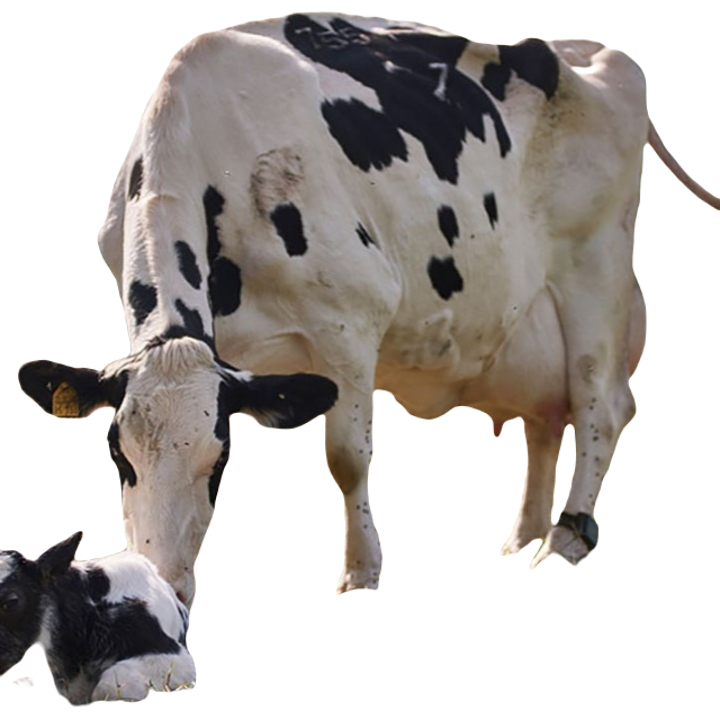Cow: (19, 13, 719, 605)
